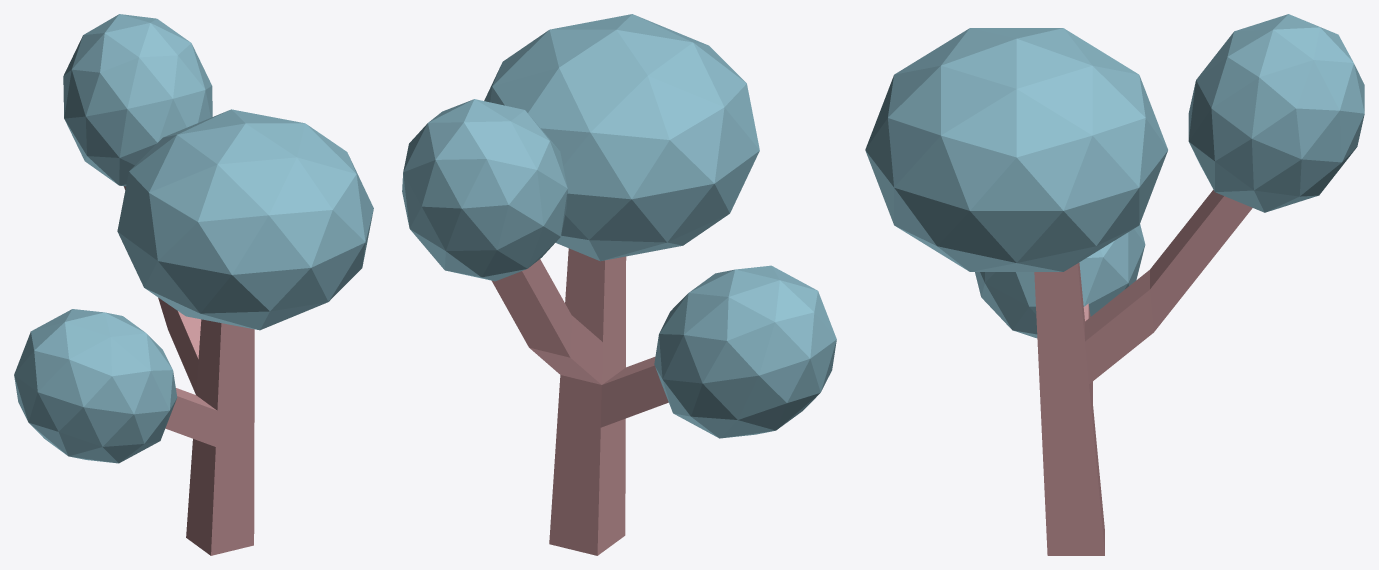
File: shrub.glb
3 renders of one model, left to right at view 1: azimuth 30°, elevation 25°; view 2: azimuth 150°, elevation 25°; view 3: azimuth 270°, elevation 25°, orthographic. The views are drawn at different scales.
Visible parts, largest first — view 1: Cylinder.007; view 2: Cylinder.007; view 3: Cylinder.007.
Boxes of the visible parts, x1,y1,x2,y2 form: Cylinder.007: (14,14,373,555); Cylinder.007: (402,14,836,555); Cylinder.007: (865,14,1364,555).
Size of the model in its own units: 0.4216 by 0.5873 by 0.5085.
